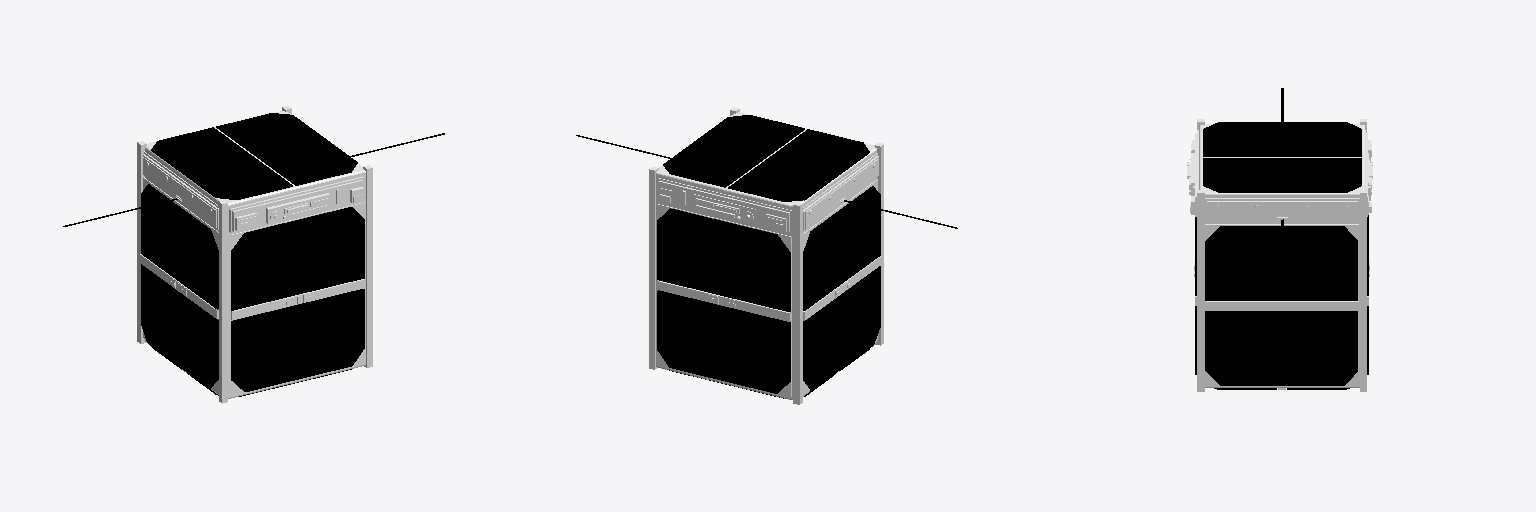
File: Cubesat1RU-label-body.obj
The picture shows the model from 3 angles: view 1: azimuth 30°, elevation 25°; view 2: azimuth 150°, elevation 25°; view 3: azimuth 270°, elevation 25°; orthographic projection.
Parts seen in each view (by area): view 1: Cubesat1RU-label-body; view 2: Cubesat1RU-label-body; view 3: Cubesat1RU-label-body.
Part boxes in pixels (x1,y1,x2,y2): Cubesat1RU-label-body: (63,106,444,403); Cubesat1RU-label-body: (576,107,957,404); Cubesat1RU-label-body: (1187,88,1372,391).
Size of the model in its own units: 2.08 by 1.04 by 0.8788.